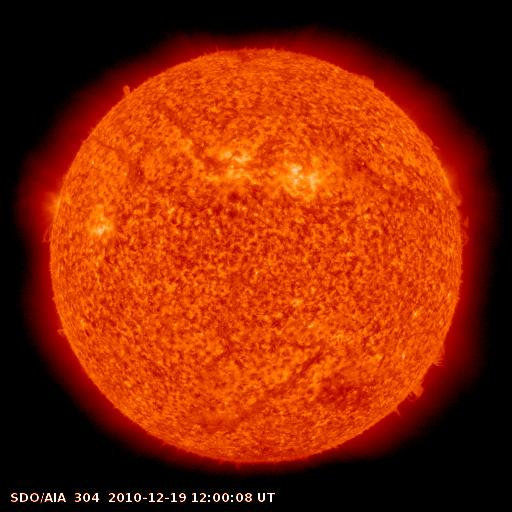prominence: (388, 337, 459, 415), (449, 177, 485, 253), (110, 74, 149, 110), (351, 65, 385, 95)
